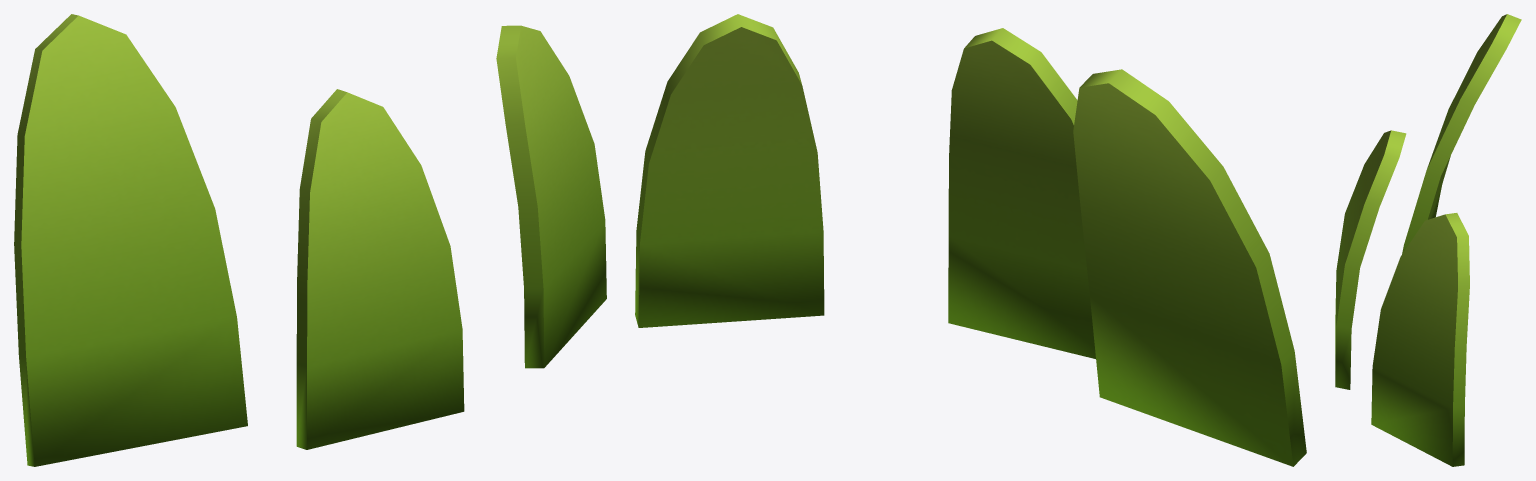
The model's file is Grass2.fbx.
The picture shows the model from 3 angles, left to right: view 1: azimuth 30°, elevation 25°; view 2: azimuth 150°, elevation 25°; view 3: azimuth 270°, elevation 25°; orthographic projection. The views are drawn at different scales.
Visible parts, largest first — view 1: Grass2; view 2: Grass2; view 3: Grass2.
Boxes of the visible parts, left/top/right/bottom form: Grass2: left=14, top=14, right=606, bottom=466; Grass2: left=635, top=14, right=1306, bottom=466; Grass2: left=1335, top=14, right=1521, bottom=466.
Bounding box in the file's own units: 0.5065 × 0.3107 × 0.1857.
